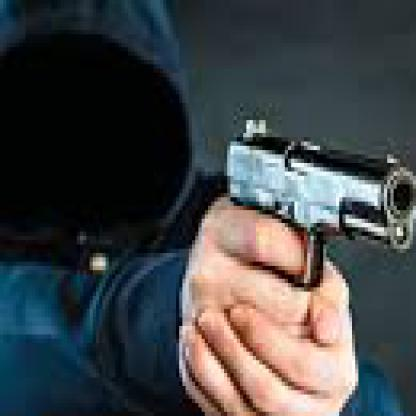gun: (214, 103, 413, 343)
